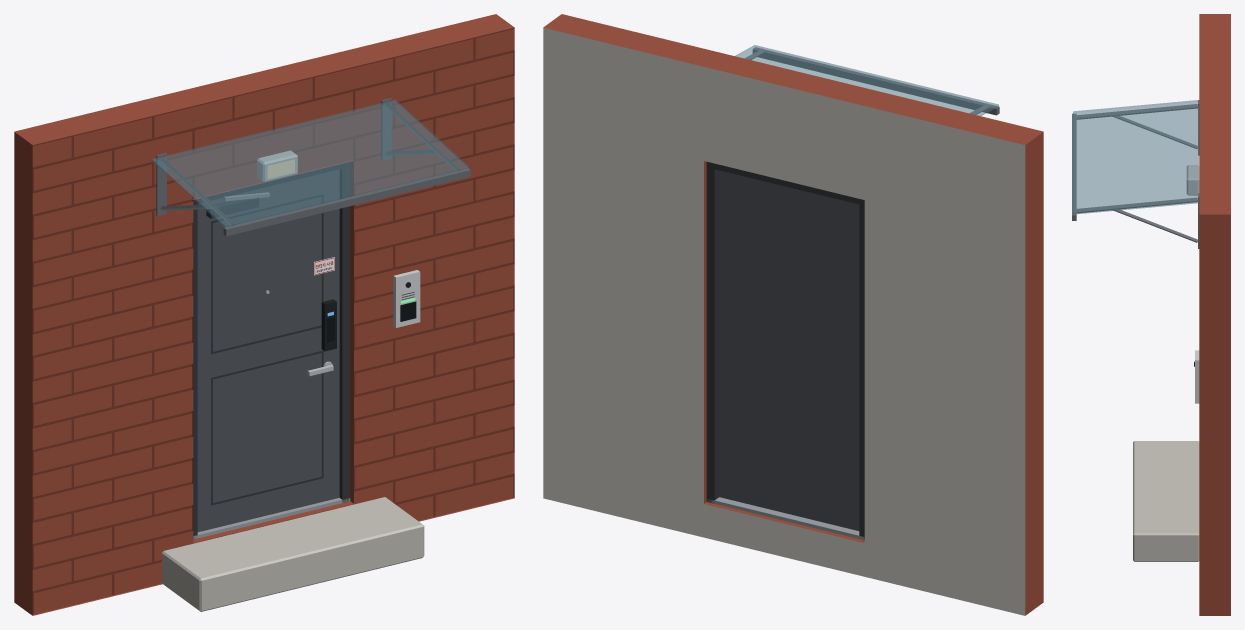
File: SC_Bld_Villa_Wall_Brick_Door_3m.gltf
3 views of the same model, side by side, from view 1: azimuth 30°, elevation 25°; view 2: azimuth 150°, elevation 25°; view 3: azimuth 270°, elevation 25° (orthographic). The views are drawn at different scales.
Parts seen in each view (by area): view 1: SC_Bld_Villa_Wall_Brick_Door_3m; view 2: SC_Bld_Villa_Wall_Brick_Door_3m; view 3: SC_Bld_Villa_Wall_Brick_Door_3m.
Part boxes in pixels (box(x1,y1,x2,y2)): SC_Bld_Villa_Wall_Brick_Door_3m: box(14, 14, 514, 615); SC_Bld_Villa_Wall_Brick_Door_3m: box(543, 14, 1043, 615); SC_Bld_Villa_Wall_Brick_Door_3m: box(1072, 14, 1230, 615).
Bounding box in the file's own units: 3 × 2.8 × 1.
4 materials, 4 textured.
